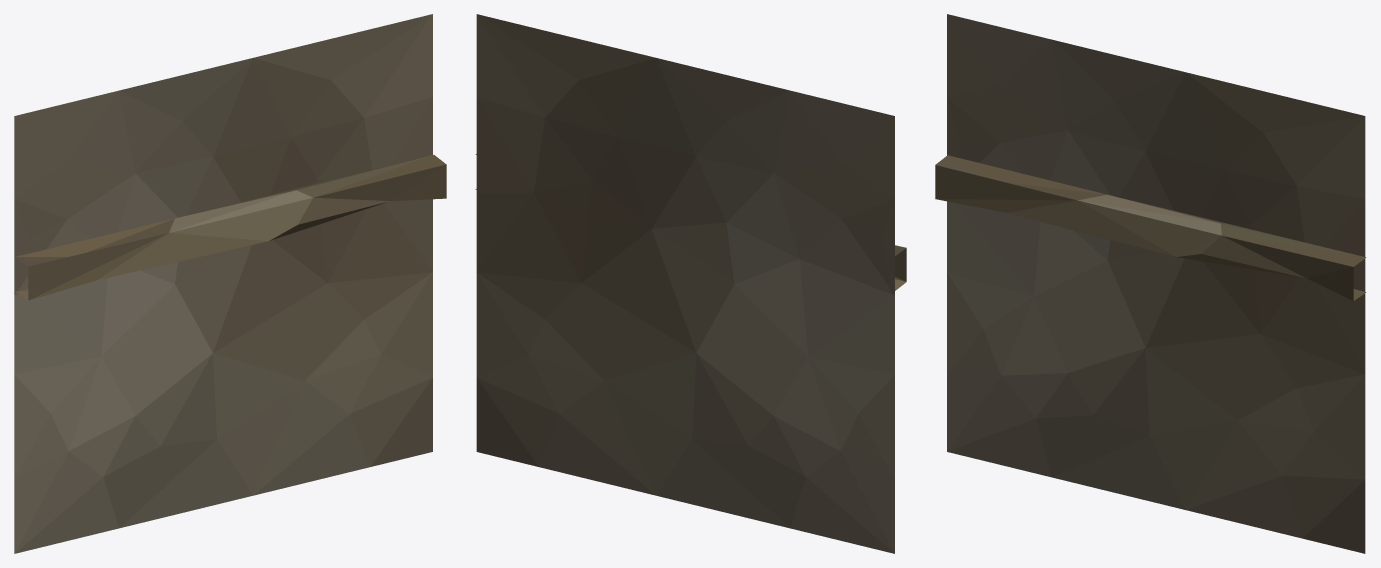
File: Wall_UG-CleanB.fbx
3 views of the same model, side by side, from view 1: azimuth 30°, elevation 25°; view 2: azimuth 150°, elevation 25°; view 3: azimuth 330°, elevation 25° (orthographic).
Parts seen in each view (by area): view 1: Wall_UG-CleanB; view 2: Wall_UG-CleanB; view 3: Wall_UG-CleanB.
Part boxes in pixels (x1,y1,x2,y2): Wall_UG-CleanB: (14, 14, 446, 553); Wall_UG-CleanB: (475, 14, 906, 553); Wall_UG-CleanB: (935, 14, 1366, 553).
Bounding box in the file's own units: 401 × 400 × 24.1.
